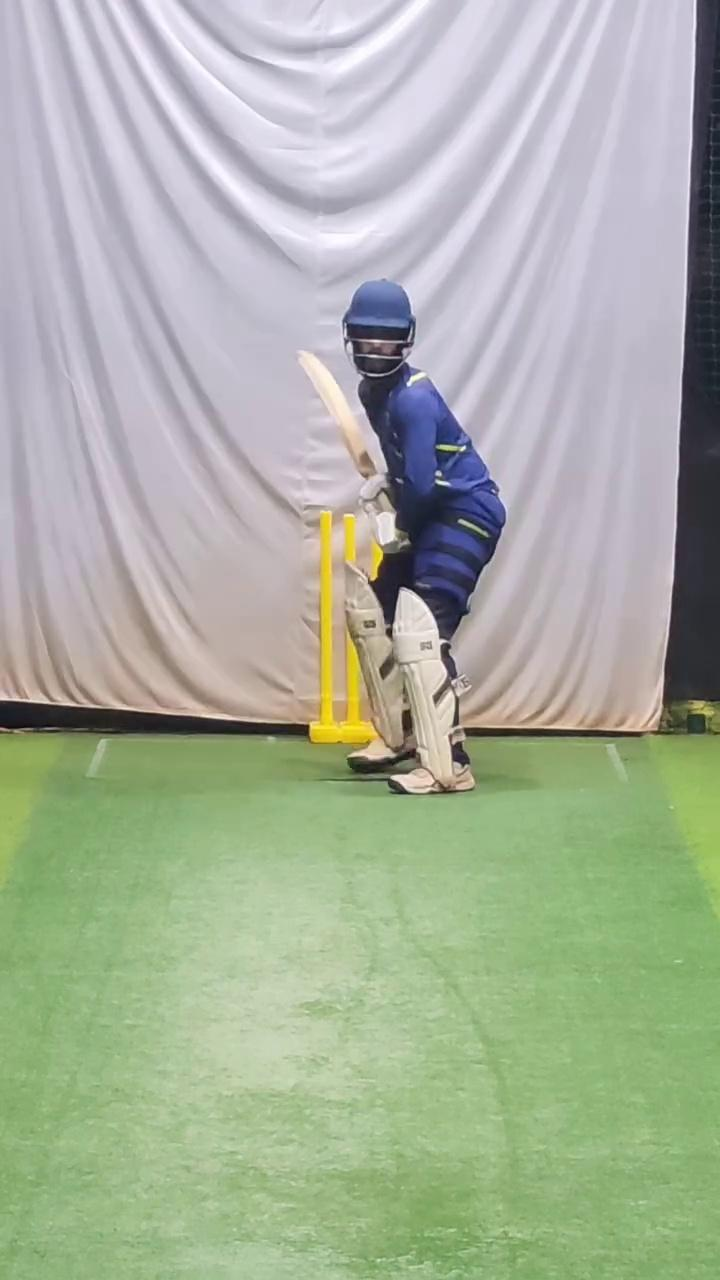bat: (293, 339, 380, 485)
